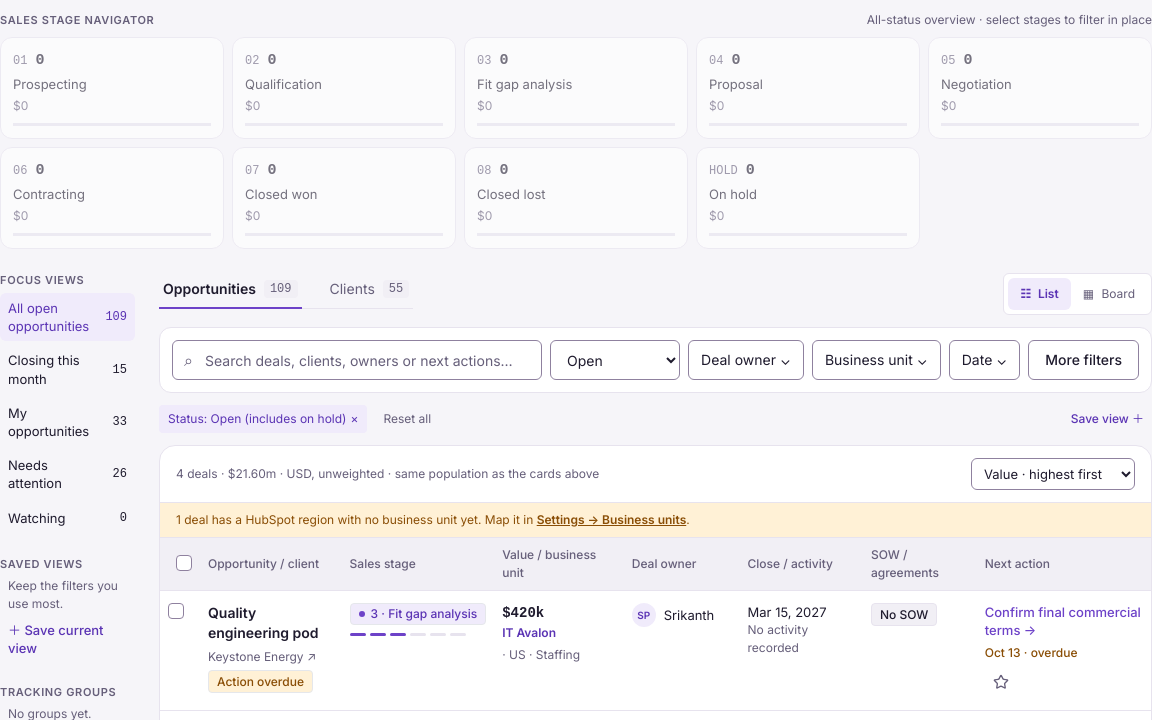
F20 · the whole Pipeline page › offers no alert, notes or client-sector control, on the page or in More filters
(page scrolled)
Expected: the button "Quality engineering pod" is shown, [208, 603, 334, 644]
Click the button "More filters". click: click(1084, 360)
box: [1028, 340, 1139, 380]
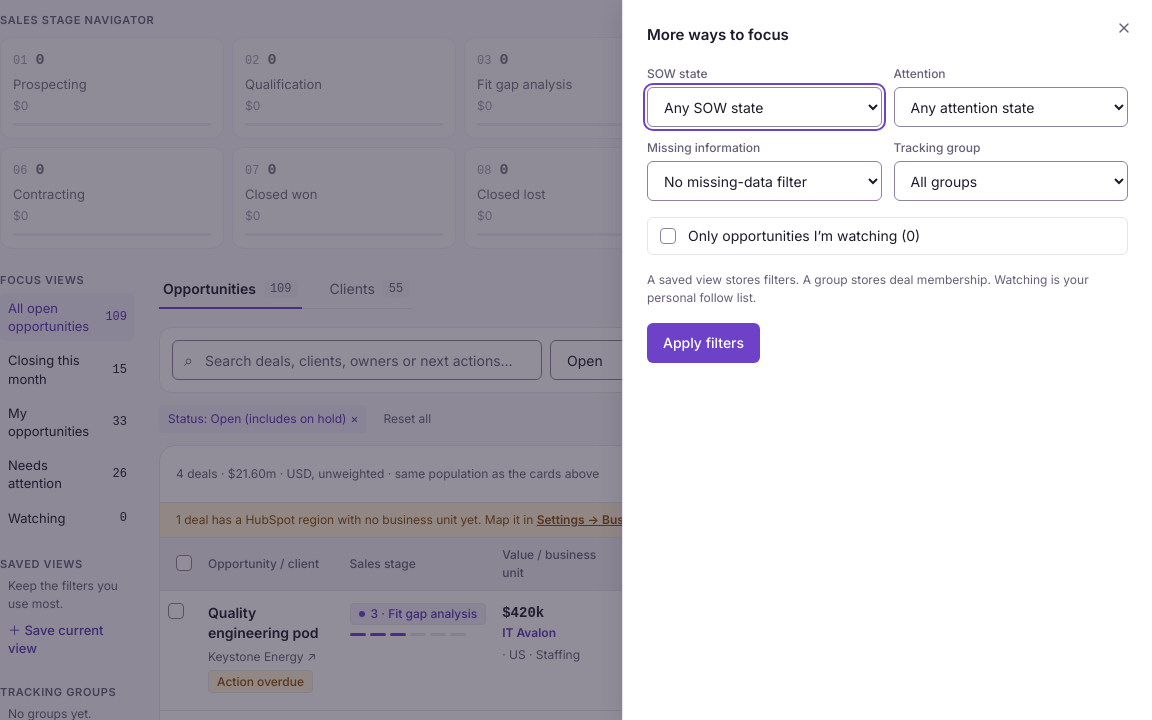
Expected: the dialog is shown, [622, 0, 1151, 719]
